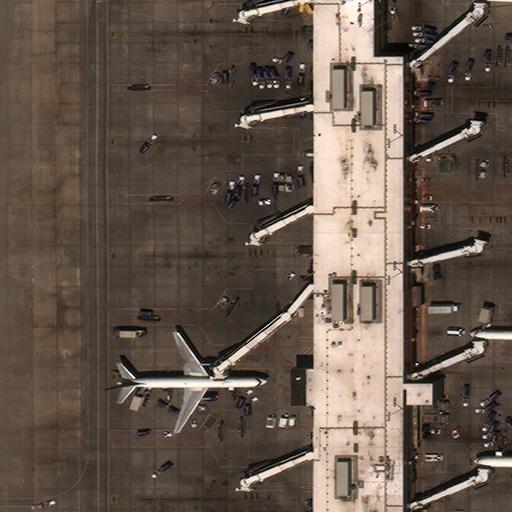Large Civil Transport: (116, 332, 268, 433)
Medium Civil Transport: (467, 313, 511, 355), (473, 438, 511, 484)
